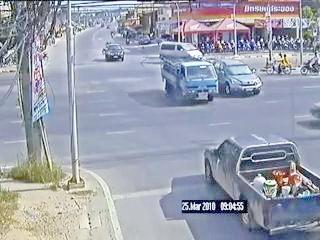Car: (209, 137, 320, 232), (162, 57, 217, 102), (214, 59, 262, 96), (159, 44, 203, 61), (105, 45, 124, 62)
Motor: (267, 55, 292, 74), (302, 55, 320, 75)
